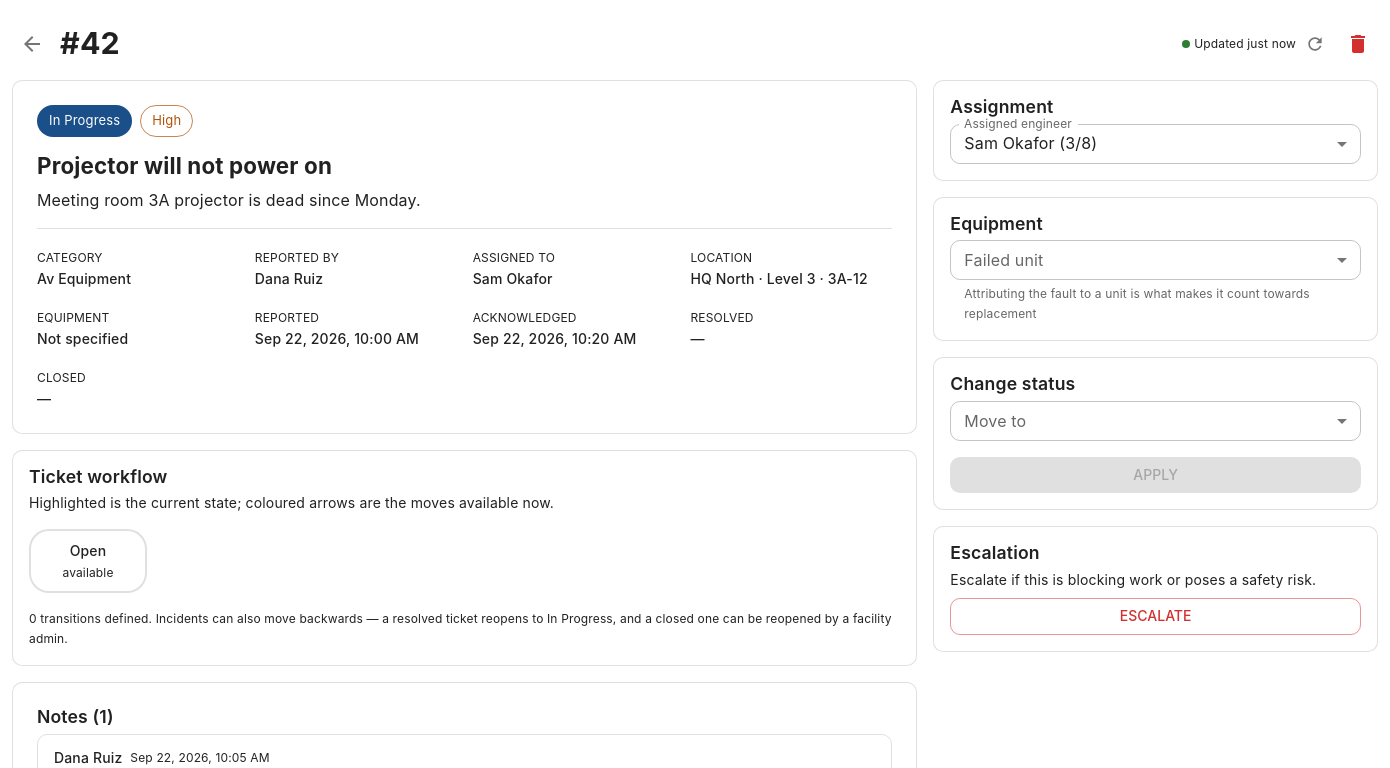
Test: controls mirror the API permissions › offers only the transitions the API says are legal
Check: the heading "Change status" is shown, box [950,373,1075,394]
Click the dropdown next to "Move to": (1156, 421) [950,401,1361,441]
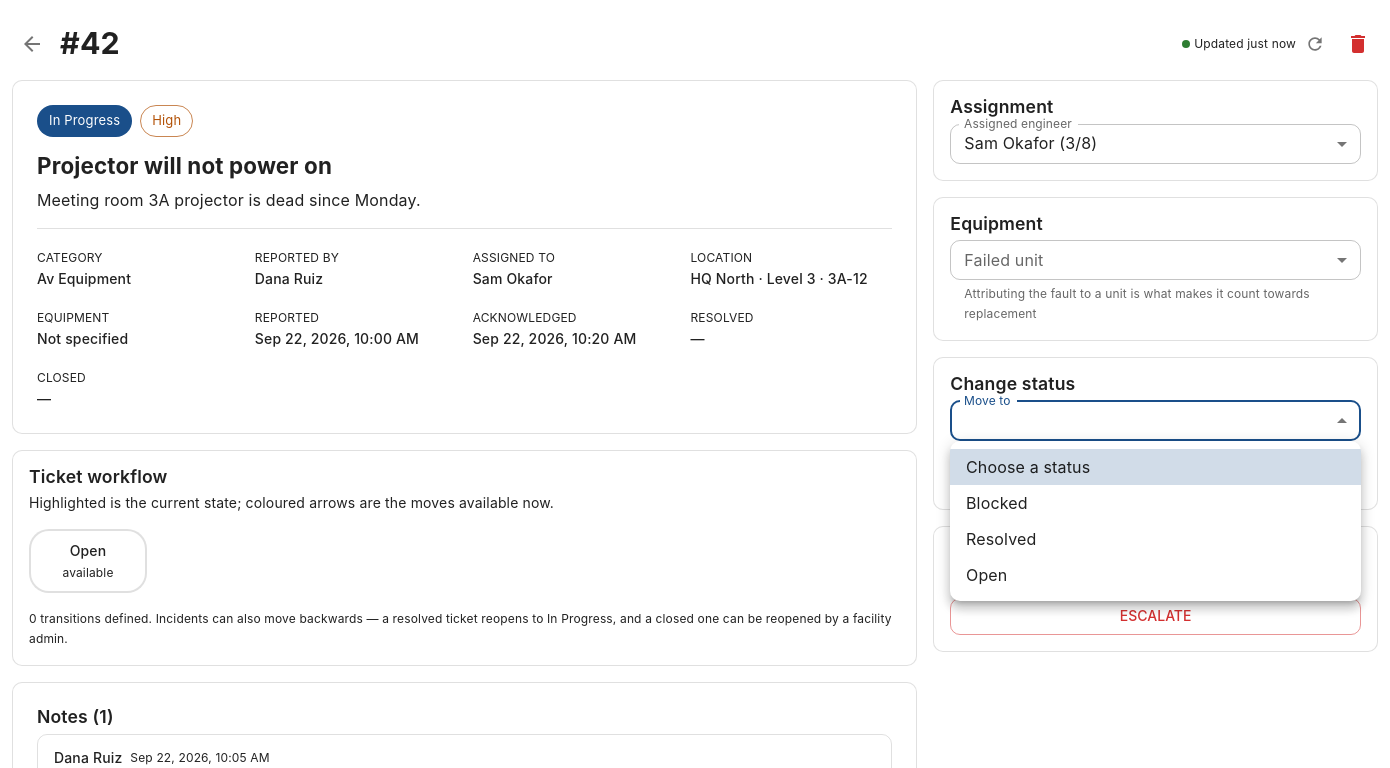
Check: the option does not show "Closed"
Check: the options read "Choose a status", "Blocked", "Resolved", "Open", in this order, box [950,449,1361,485]; [966,493,1028,513]; [966,529,1036,549]; [966,565,1007,585]
